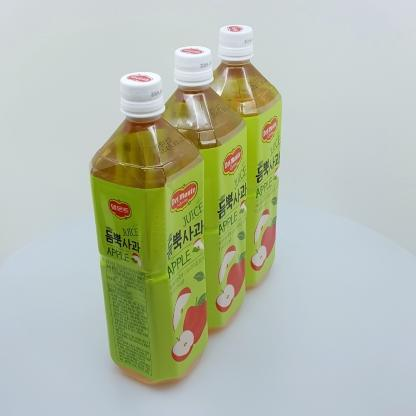----------1L: (88, 72, 208, 385), (145, 45, 247, 332), (191, 24, 282, 289)
